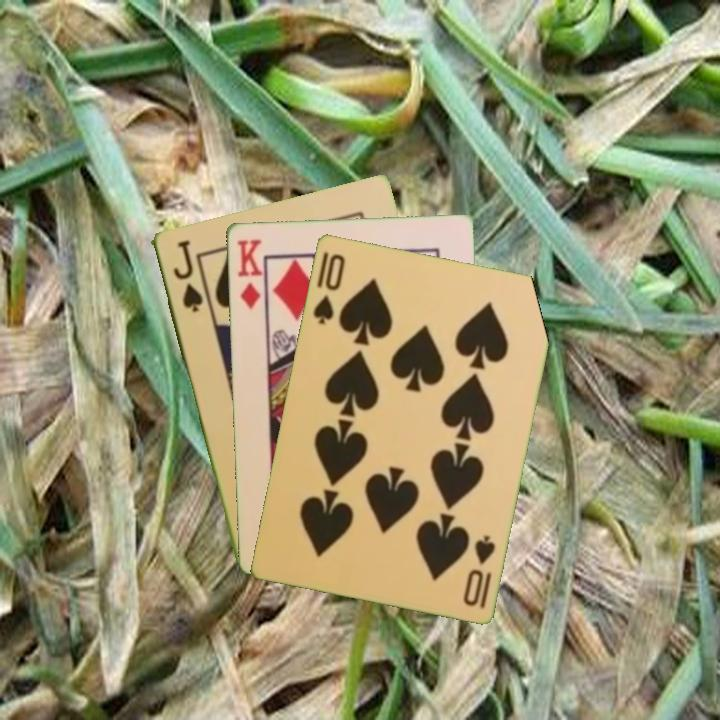10s: (459, 531, 498, 611), (309, 250, 348, 327)
Js: (169, 237, 205, 315)
Kd: (233, 235, 265, 312)
